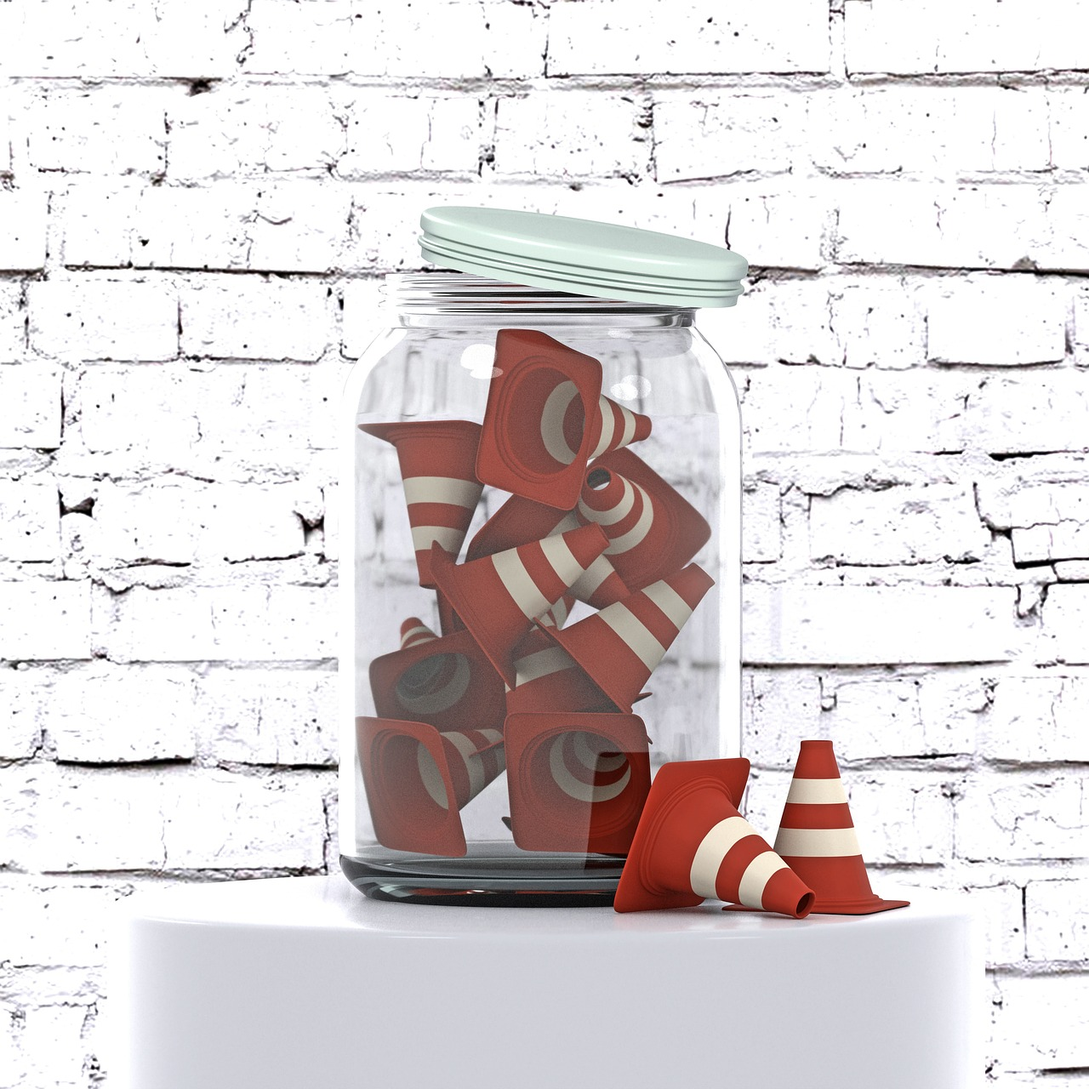traffic_cone: (612, 756, 816, 920), (772, 737, 910, 915)
